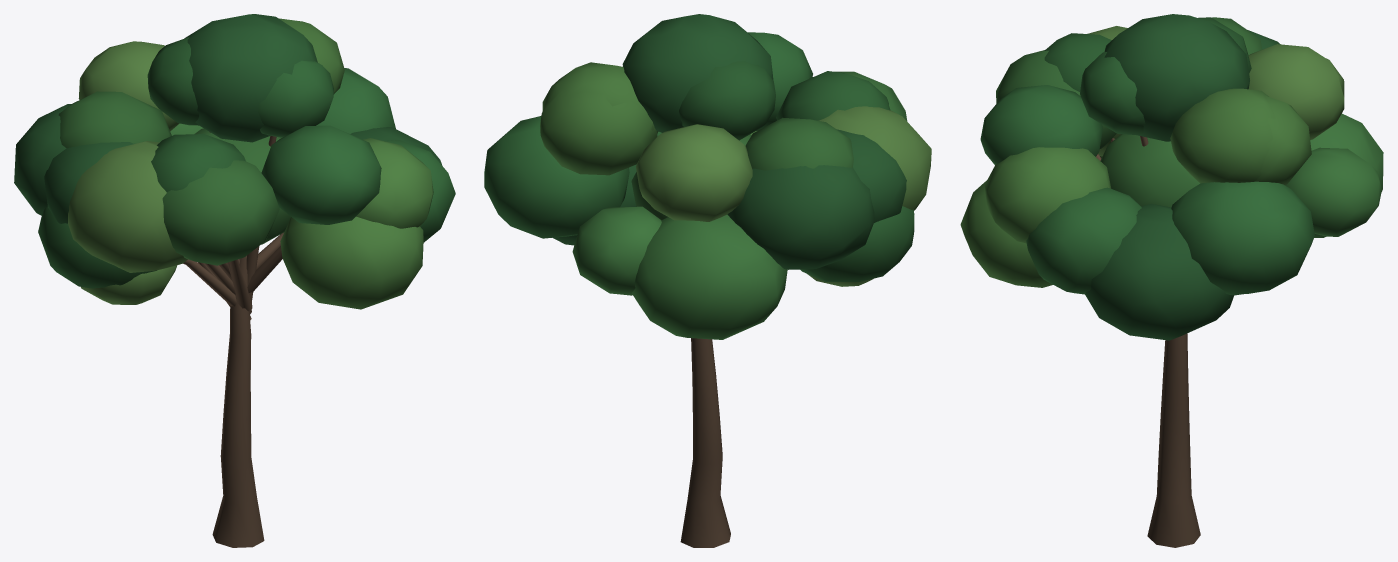
Rendered from tree_clump_round.glb.
3 views of the same model, side by side, from view 1: azimuth 30°, elevation 25°; view 2: azimuth 150°, elevation 25°; view 3: azimuth 270°, elevation 25° (orthographic).
Visible parts, largest first — view 1: crown, trunk; view 2: crown, trunk; view 3: crown, trunk.
Part boxes in pixels (x1,y1,x2,y2): crown: (14,14,455,309); trunk: (183,132,283,547); crown: (484,14,931,339); trunk: (680,338,730,547); crown: (960,14,1383,340); trunk: (1096,136,1200,547).
Size of the model in its own units: 4.73 by 5.98 by 4.43.
